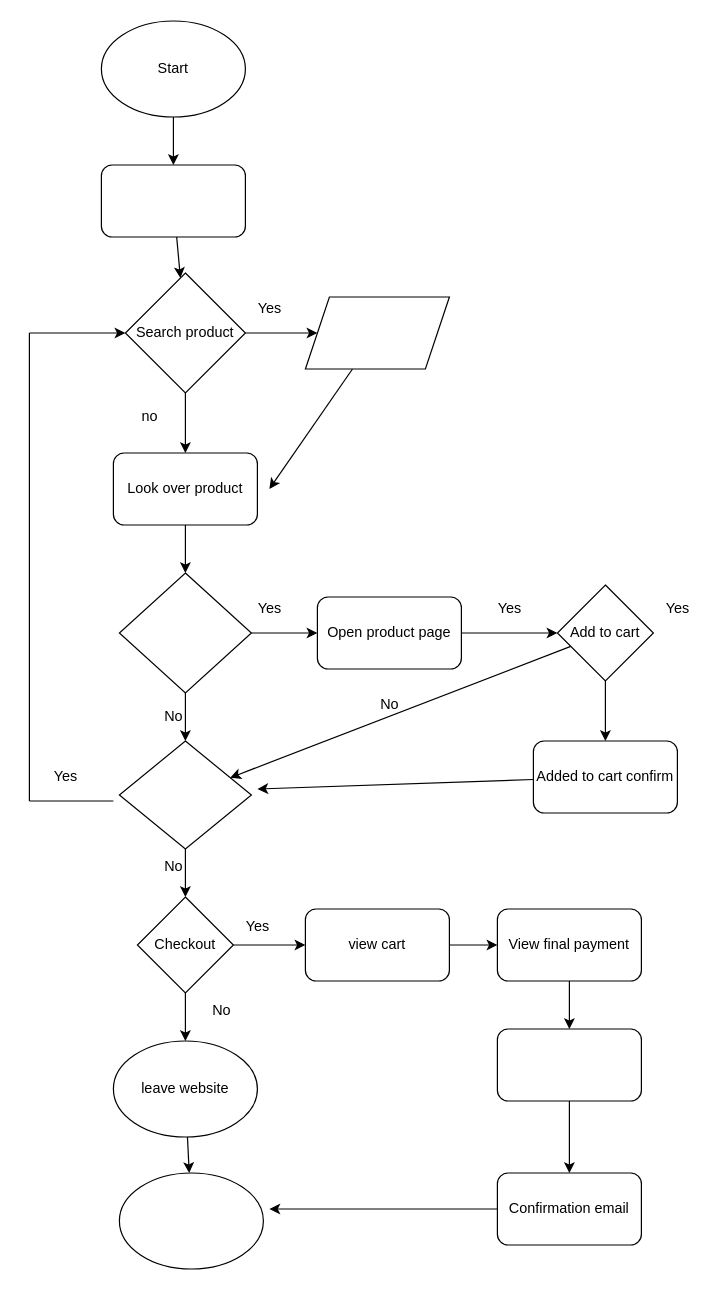
Some shapes in this 722 by 1290 pixel diagram are drawn without their labels. The centre of each missing label's shape, as x and y in pixels:
Continue shopping: the point at 184,794
end: the point at 190,1220
Enter website: the point at 172,200
fill payment infotmation: the point at 568,1064
User provide input: the point at 376,332
View specific product: the point at 184,632
